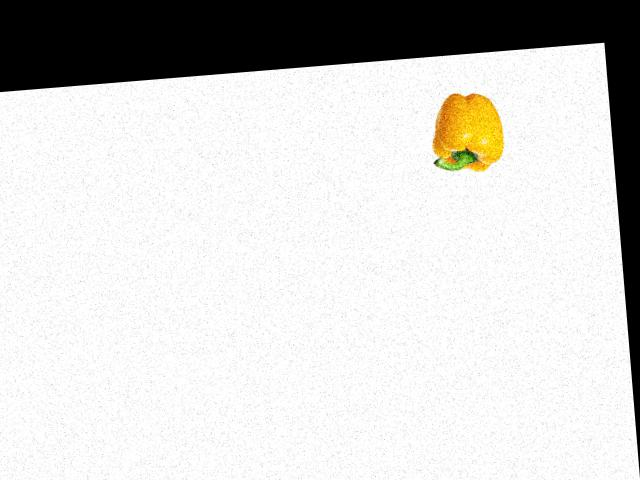bell_pepper: (420, 86, 512, 183)
